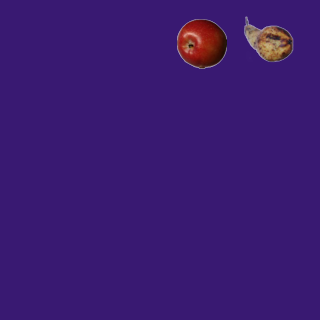Apple Braeburn: (176, 18, 226, 68)
Pear Abate: (243, 14, 293, 64)
